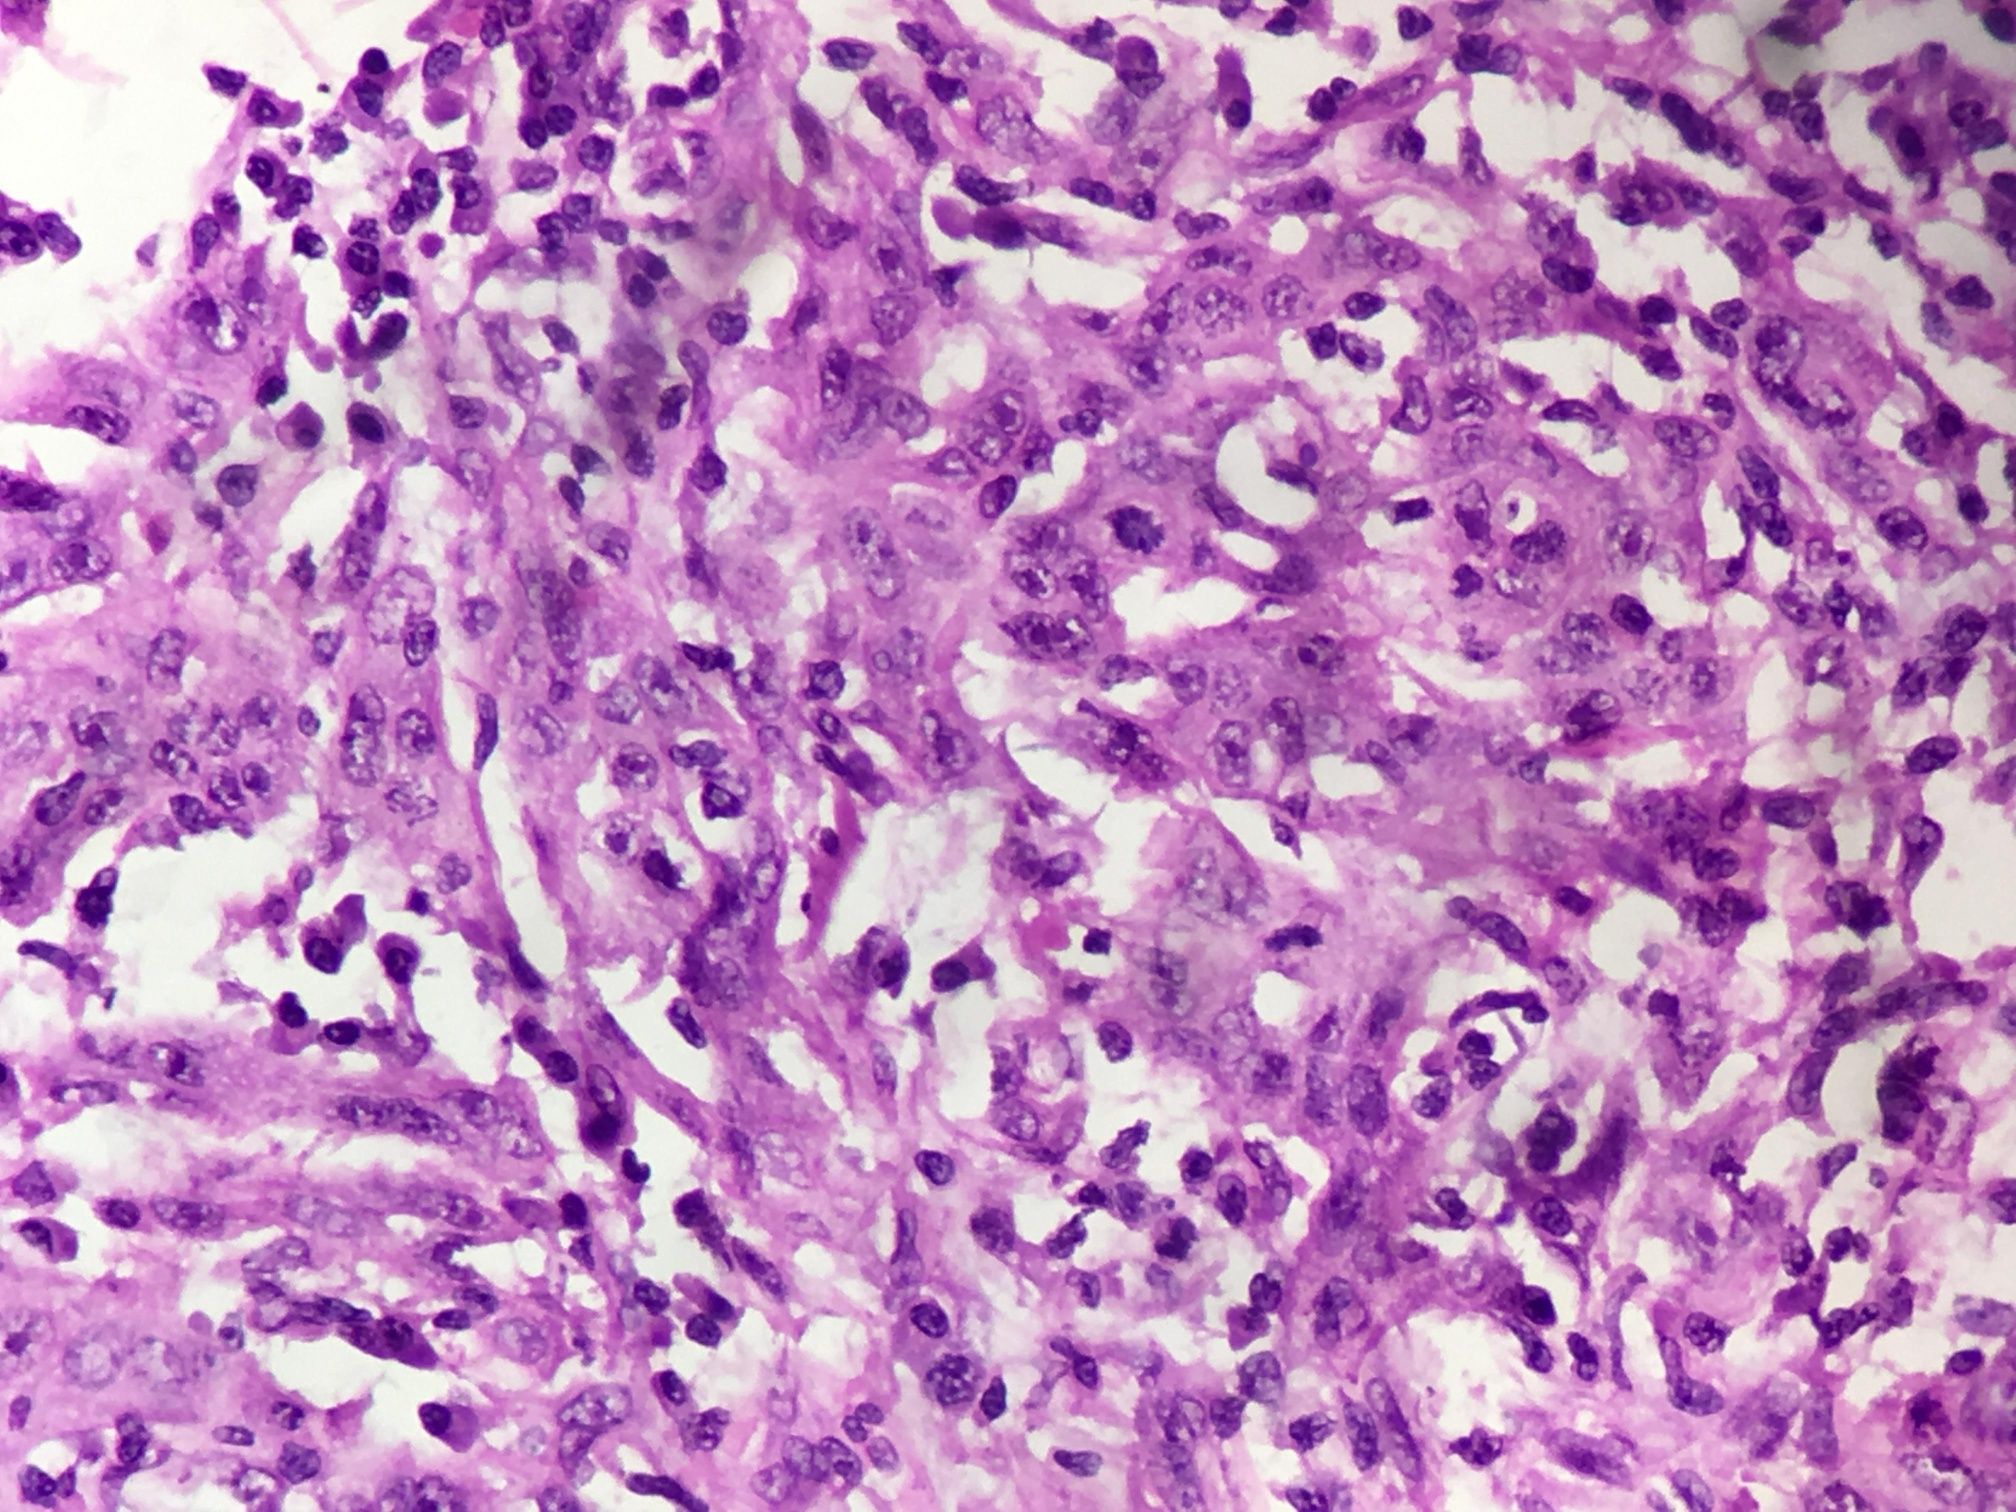mitotic: (1222, 867, 1348, 1001), (1078, 473, 1178, 580)
